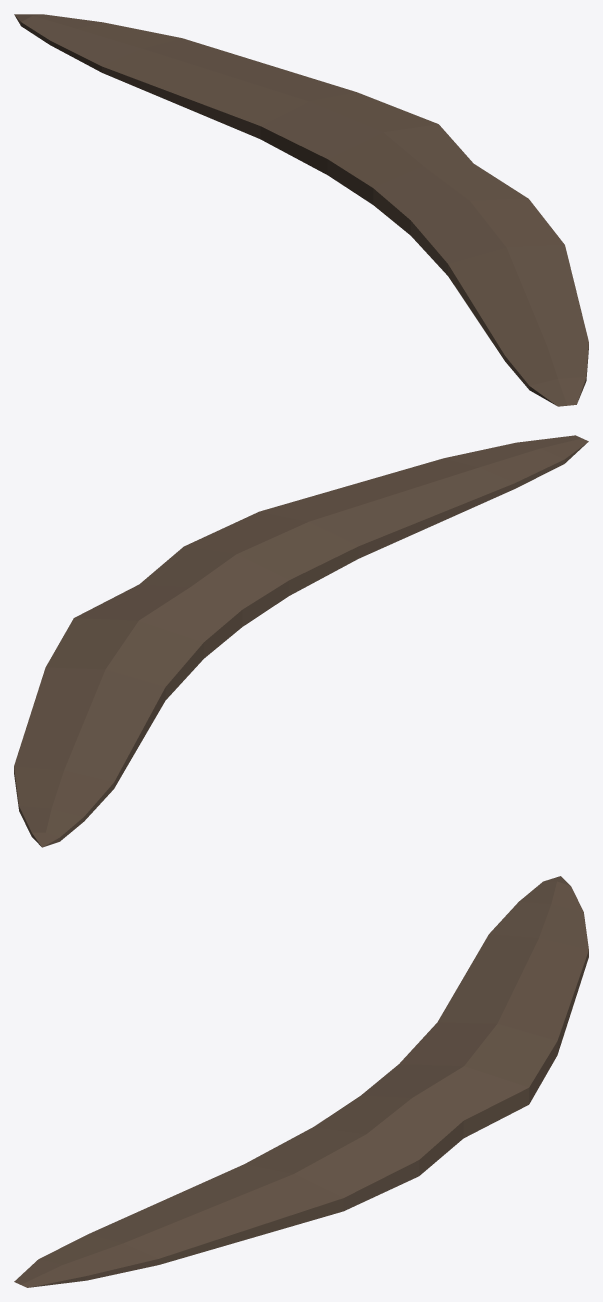
The model's file is boomerang.glb.
3 views of the same model, one above another, from view 1: azimuth 30°, elevation 25°; view 2: azimuth 150°, elevation 25°; view 3: azimuth 330°, elevation 25° (orthographic). The views are drawn at different scales.
Visible parts, largest first — view 1: Boomerang; view 2: Boomerang; view 3: Boomerang.
Part boxes in pixels (x1,y1,x2,y2): Boomerang: (14,14,588,406); Boomerang: (14,435,588,847); Boomerang: (14,876,588,1287).
Bounding box in the file's own units: 0.4714 × 0.0821 × 2.19.
